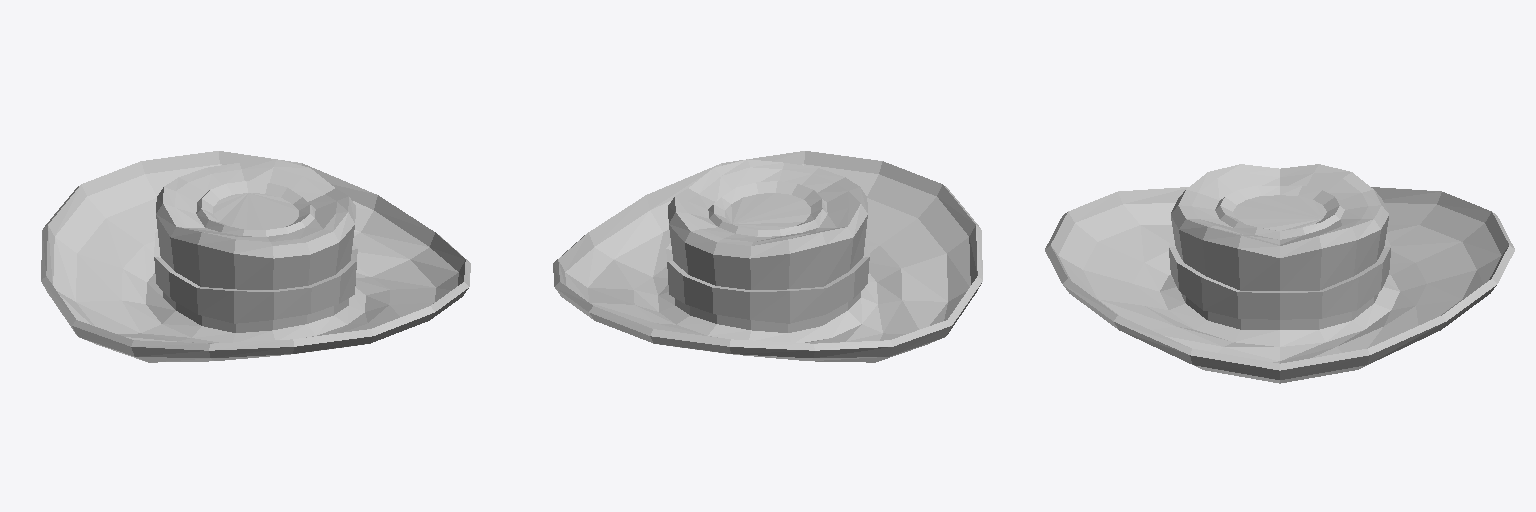
The model's file is hat1.obj.
The picture shows the model from 3 angles: view 1: azimuth 30°, elevation 25°; view 2: azimuth 150°, elevation 25°; view 3: azimuth 270°, elevation 25°; orthographic projection.
Visible parts, largest first — view 1: Cylinder; view 2: Cylinder; view 3: Cylinder.
Boxes of the visible parts, x1,y1,x2,y2 form: Cylinder: [41, 151, 470, 362]; Cylinder: [553, 151, 982, 362]; Cylinder: [1045, 164, 1514, 383].
Size of the model in its own units: 3.64 by 1.07 by 4.03.